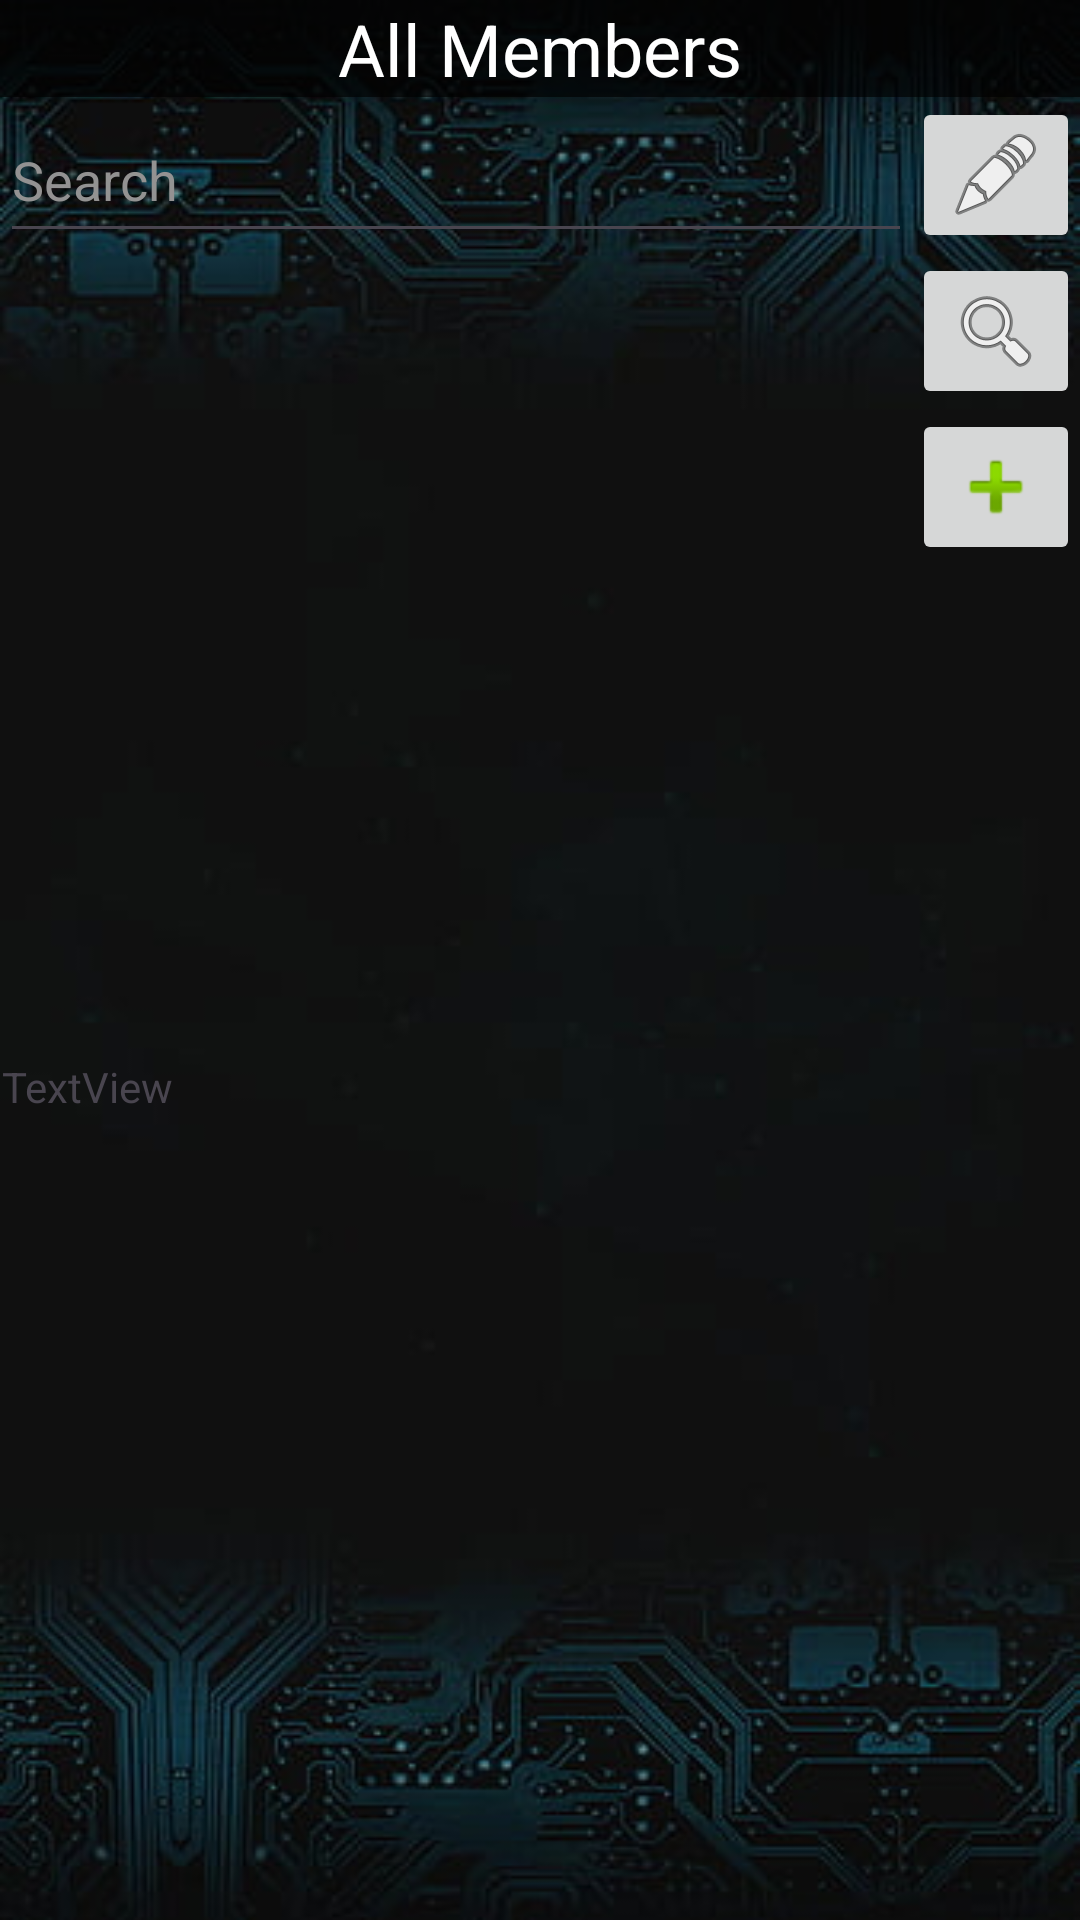

Icons on this 1080 x 1920 Android screen, each with the point to tap as point (x, y):
add: point (996, 487)
edit: point (996, 175)
